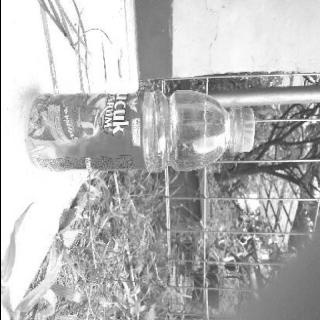plastic_bottles: (21, 88, 255, 176)
